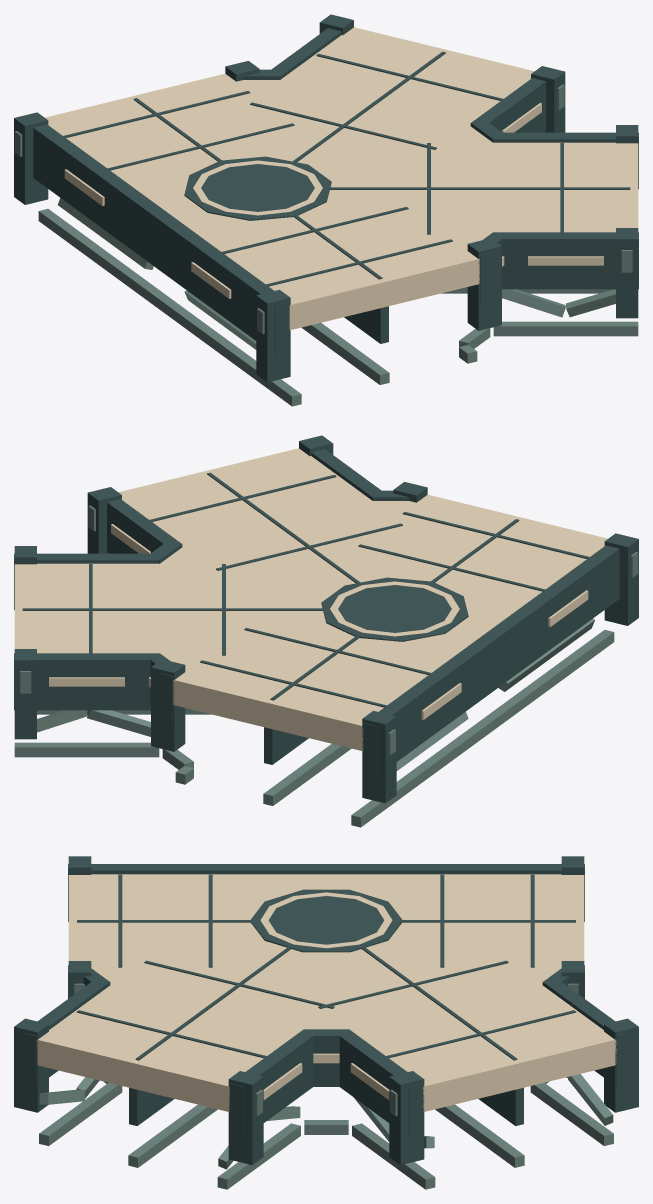
The model's file is Junction_Kletter30_lab2.glb.
3 renders of one model, top to bottom at view 1: azimuth 30°, elevation 25°; view 2: azimuth 150°, elevation 25°; view 3: azimuth 270°, elevation 25°, orthographic.
Parts seen in each view (by area): view 1: Junction_Kletter30; view 2: Junction_Kletter30; view 3: Junction_Kletter30.
Part boxes in pixels (x1,y1,x2,y2): Junction_Kletter30: (14,14,638,406); Junction_Kletter30: (14,435,638,827); Junction_Kletter30: (14,856,638,1189).
Bounding box in the file's own units: 6.75 × 1.58 × 7.76.
